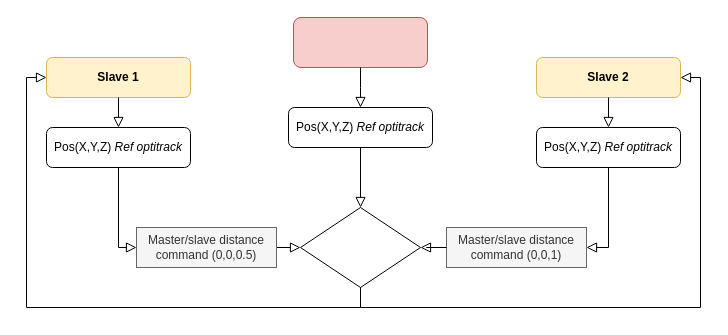
This 728x335 diagram has some shape labels left out. Here are the shapes that lost their labels. From the top down, the centre of each, then its label:
the point at 360,42: Master slave
the point at 360,247: control algorithm
